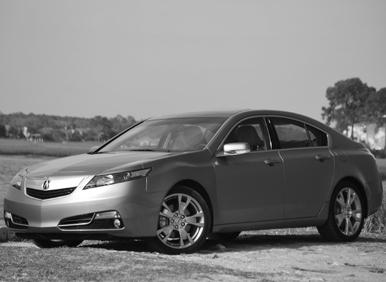car: (5, 109, 385, 255)
